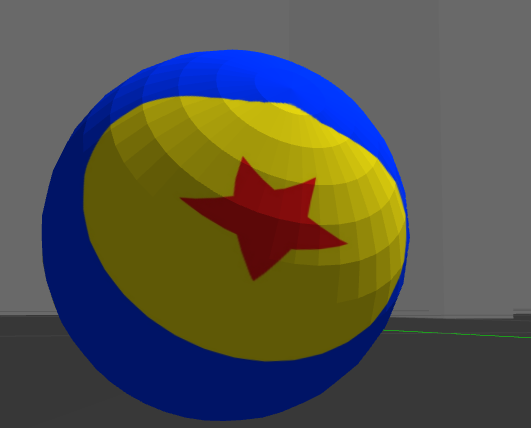toy story ball: (41, 49, 410, 420)
